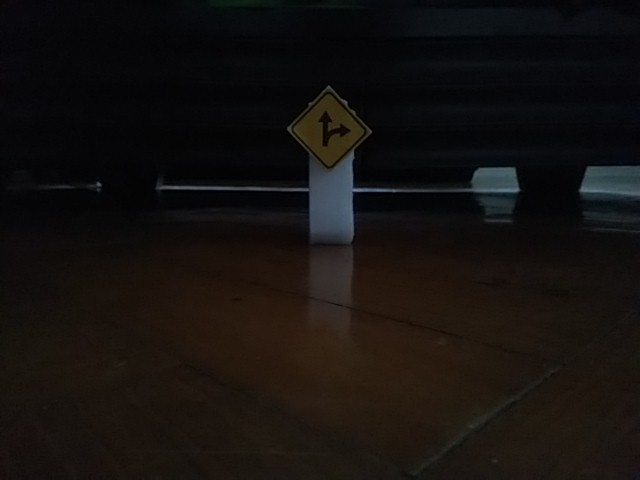Straight Or Right Sign: (291, 88, 370, 170)
